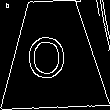O_N: (33, 28, 74, 81)
